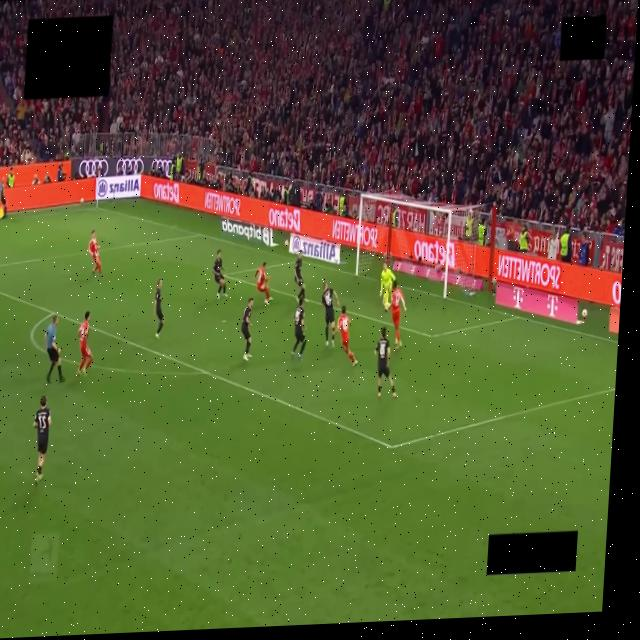player: (374, 327, 396, 397), (33, 396, 50, 484), (337, 306, 357, 366), (321, 282, 339, 347), (390, 281, 406, 348), (76, 311, 92, 376), (291, 298, 306, 361), (241, 298, 253, 361), (379, 262, 394, 311), (255, 263, 271, 305), (212, 251, 226, 299), (88, 230, 101, 277), (154, 279, 163, 338), (294, 251, 304, 299)
referee: (45, 316, 63, 383)
